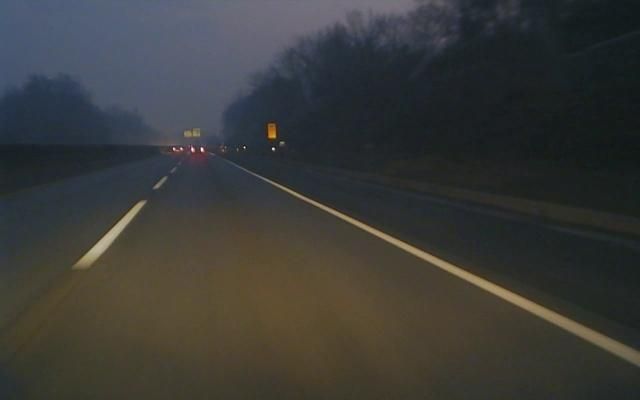lane: (216, 155, 640, 368), (64, 159, 184, 275)
